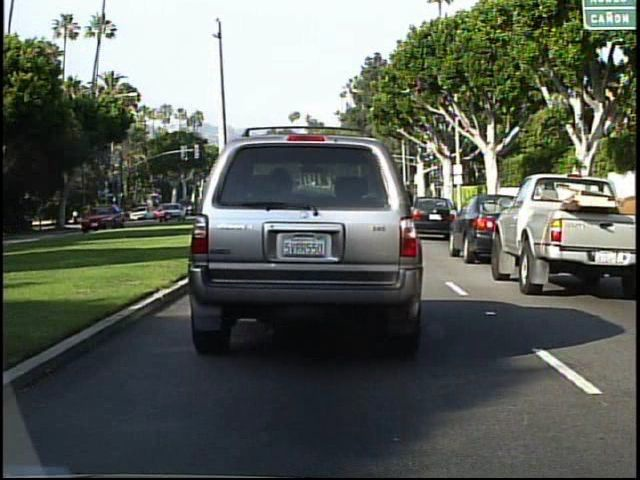person: (72, 206, 80, 226)
